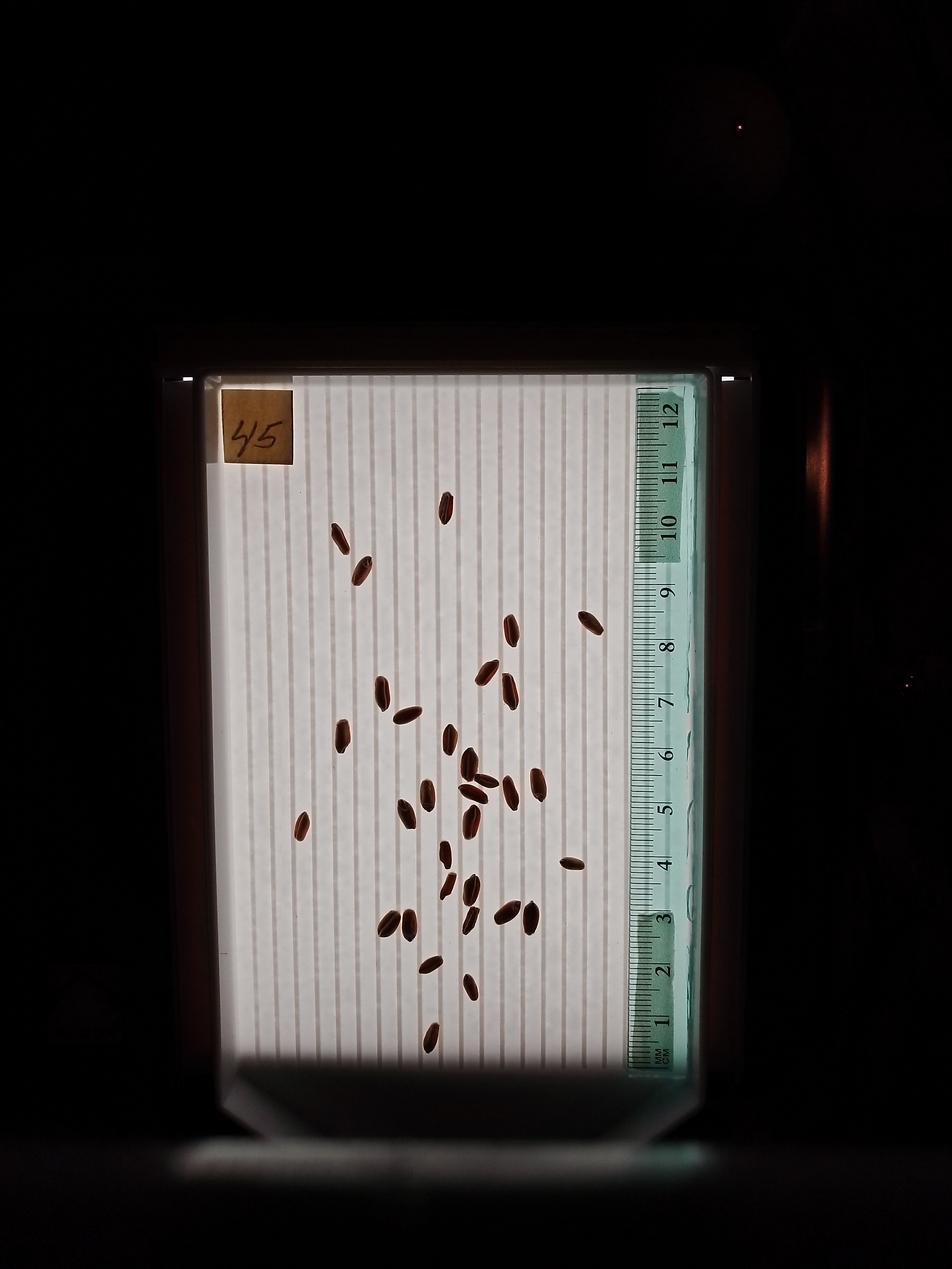seed mask: (462, 806, 481, 840), (578, 611, 603, 635), (502, 674, 519, 709), (331, 524, 350, 555), (353, 556, 372, 586), (374, 676, 390, 711), (397, 800, 416, 829), (459, 785, 488, 804), (476, 661, 498, 686), (495, 902, 520, 924), (378, 912, 400, 937), (461, 748, 478, 780), (502, 778, 519, 810), (530, 769, 547, 801), (335, 720, 351, 753), (463, 875, 480, 906), (420, 780, 436, 812), (523, 903, 539, 935), (423, 1023, 440, 1053), (394, 706, 422, 724), (504, 615, 520, 646), (401, 911, 417, 941), (294, 812, 310, 841), (419, 955, 443, 974), (439, 493, 453, 525), (443, 725, 458, 754), (463, 907, 479, 934), (463, 975, 479, 1001), (474, 773, 498, 789), (439, 842, 452, 868), (561, 857, 585, 871)
